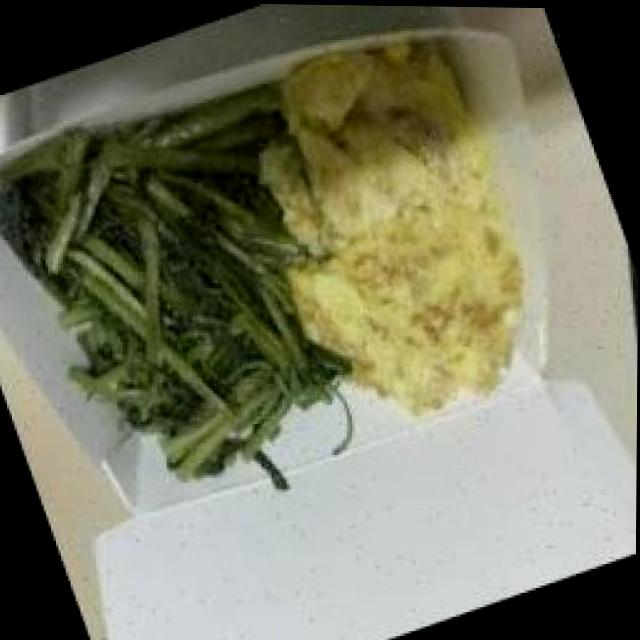water_spinach: (7, 115, 319, 477)
